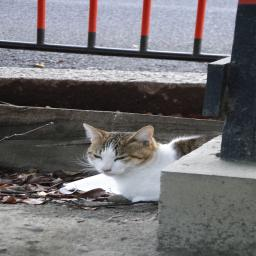catnose: (100, 165, 113, 173)
